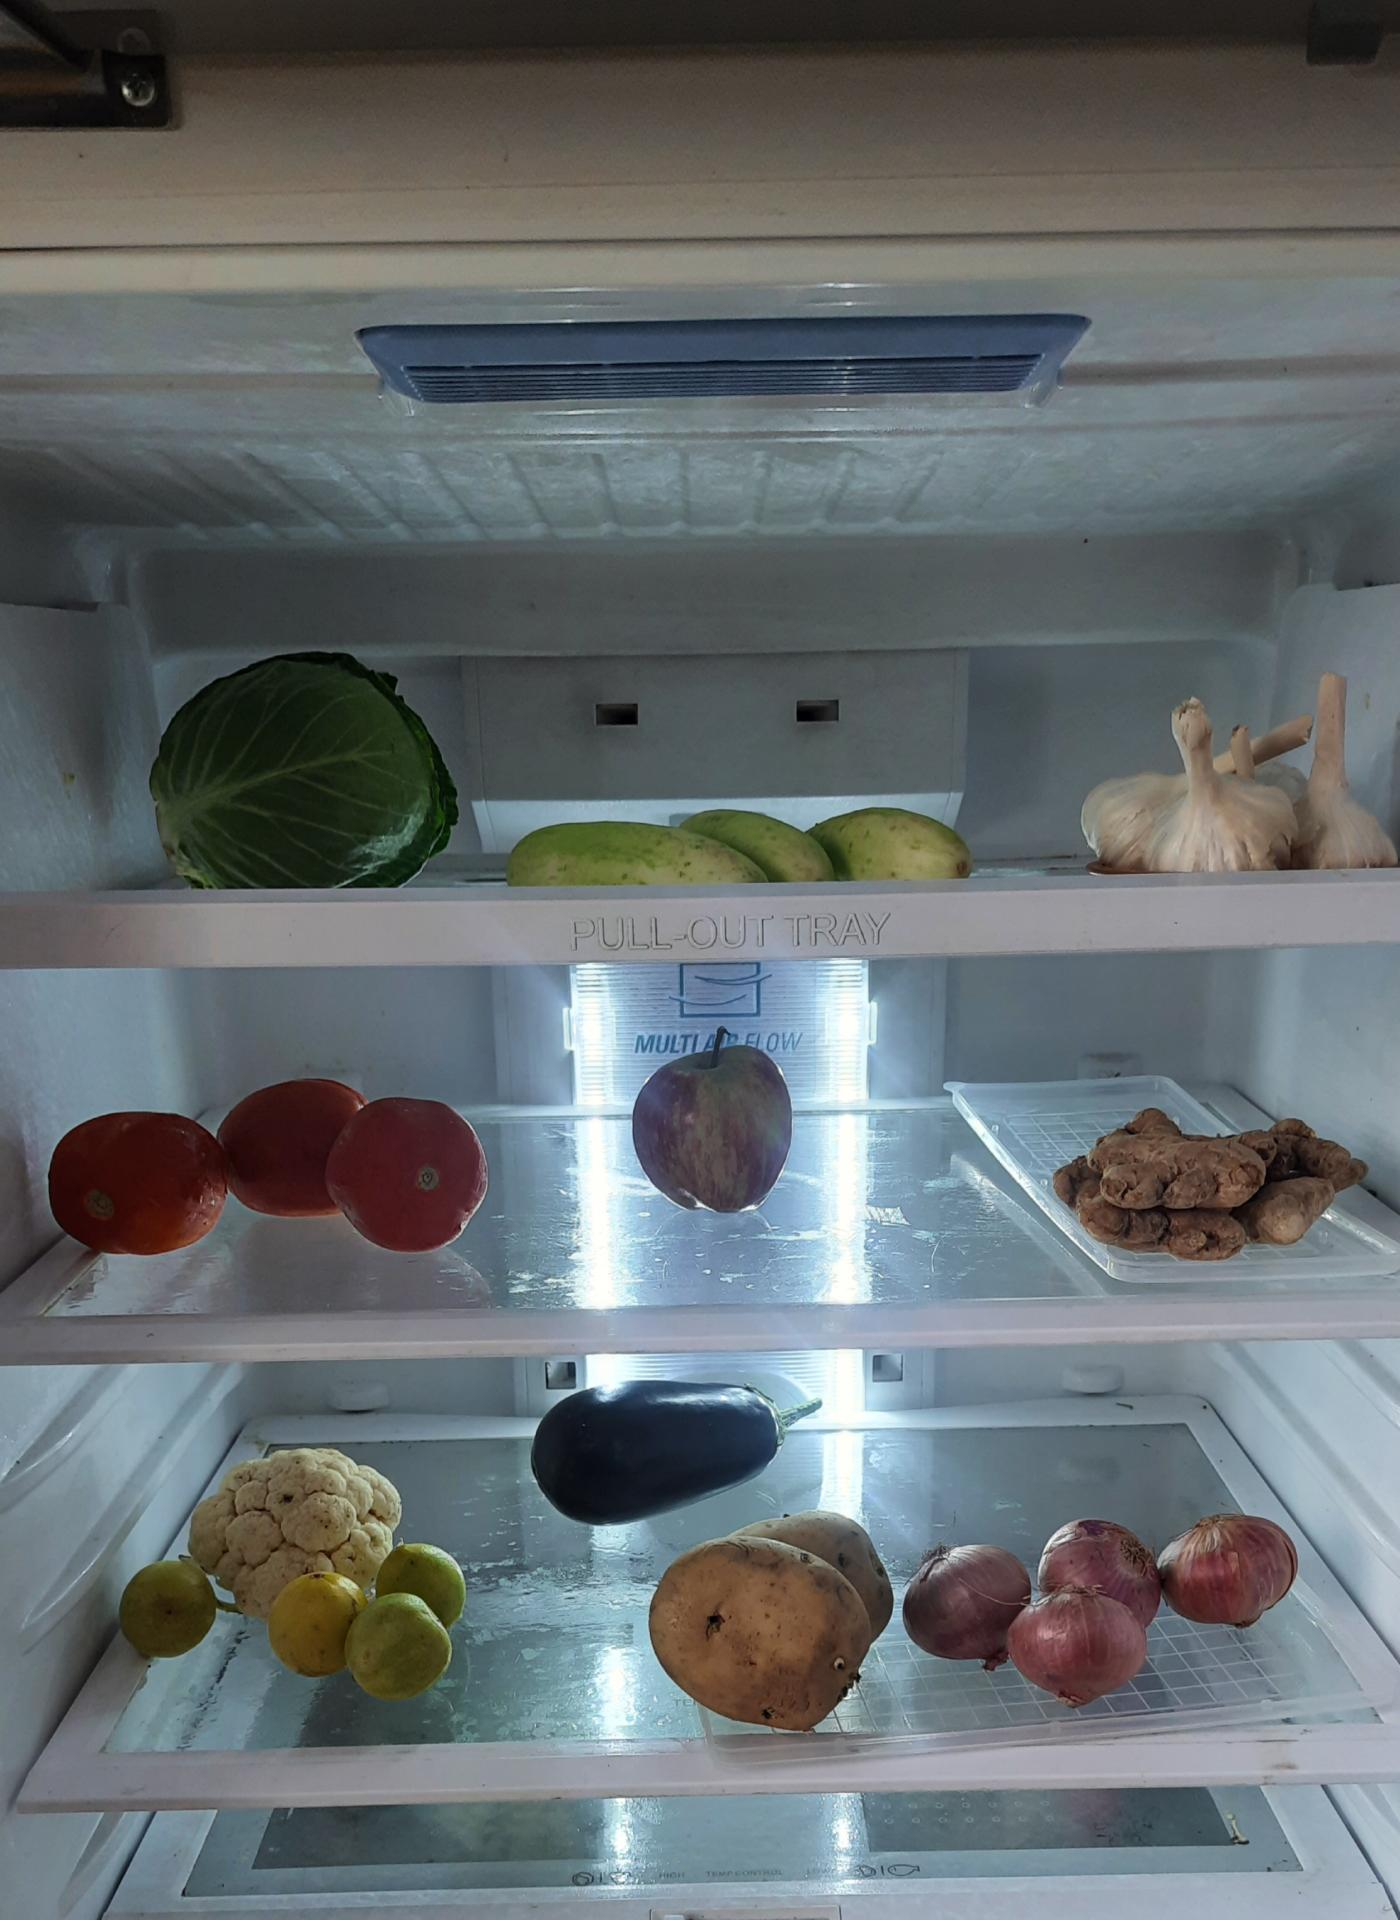apple: (643, 1029, 811, 1246)
brinjal: (492, 1376, 853, 1519)
cabbage: (155, 654, 450, 887)
cauliflower: (201, 1447, 407, 1573)
cucumber: (513, 805, 971, 885)
garlic: (1087, 726, 1385, 868)
ginger: (1056, 1099, 1384, 1273)
lemon: (279, 1582, 480, 1719), (125, 1565, 225, 1659)
onion: (924, 1506, 1321, 1705)
potato: (662, 1518, 908, 1723)
tomato: (57, 1090, 508, 1276)
